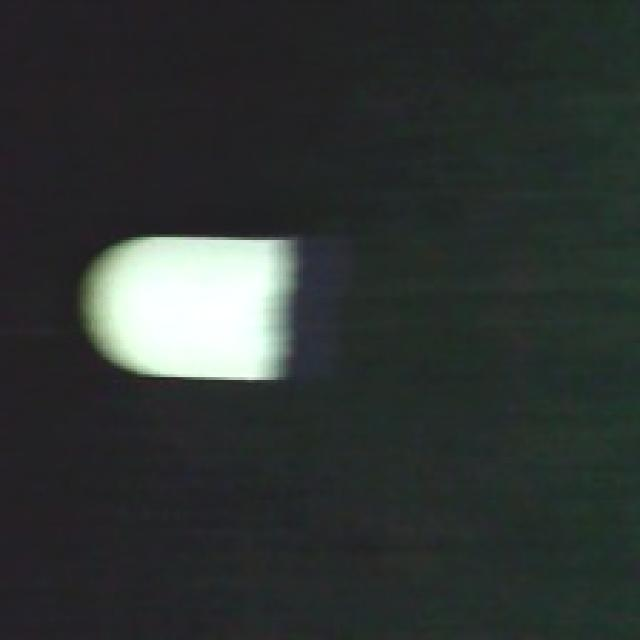defected: (71, 231, 303, 391)
